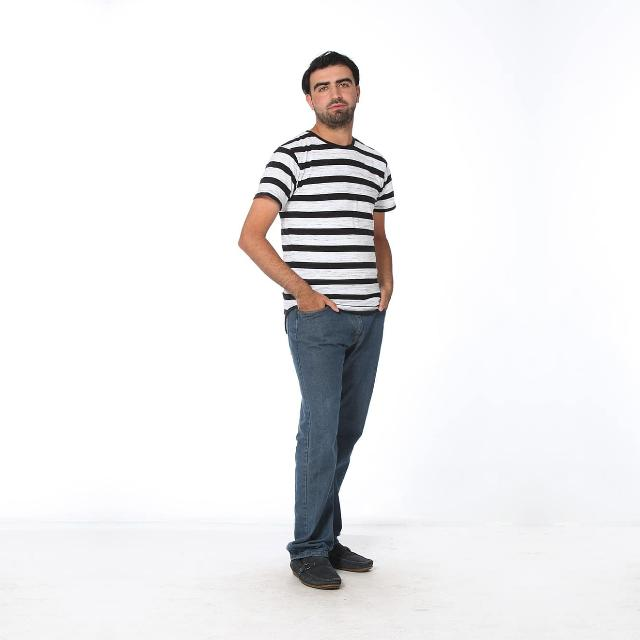person: (234, 34, 430, 422), (635, 34, 640, 421)
